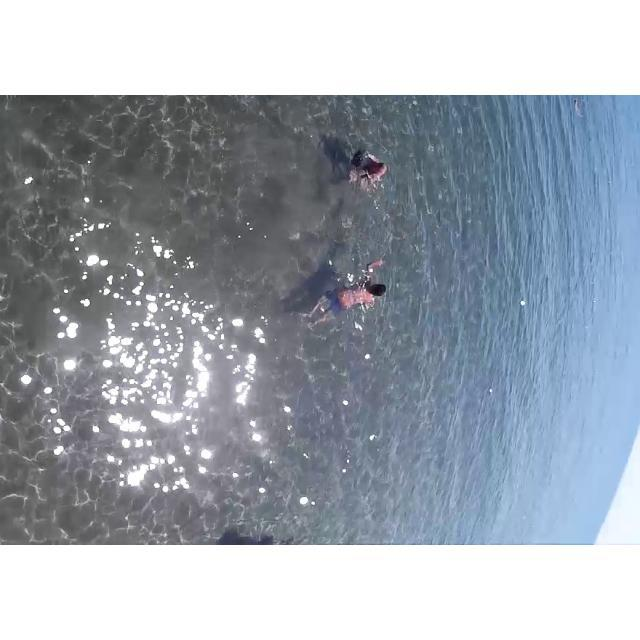human: (303, 267, 393, 329), (342, 132, 398, 204)
